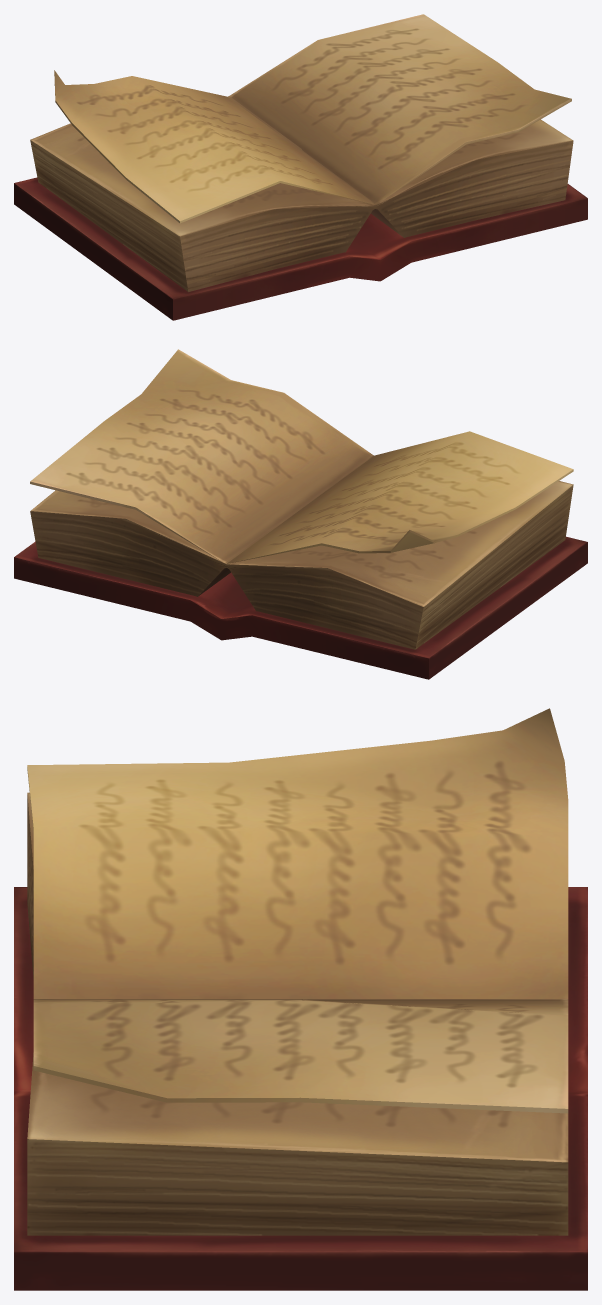
The model's file is ENV2010015.fbx.
3 views of the same model, one above another, from view 1: azimuth 30°, elevation 25°; view 2: azimuth 150°, elevation 25°; view 3: azimuth 270°, elevation 25° (orthographic). The views are drawn at different scales.
Visible parts, largest first — view 1: smENV2010015; view 2: smENV2010015; view 3: smENV2010015.
Boxes of the visible parts, x1,y1,x2,y2 form: smENV2010015: (14,14,587,320); smENV2010015: (14,349,587,679); smENV2010015: (14,708,587,1290).
Bounding box in the file's own units: 20.62 × 6.95 × 13.7.
Materials: 1 (1 with a texture image).
